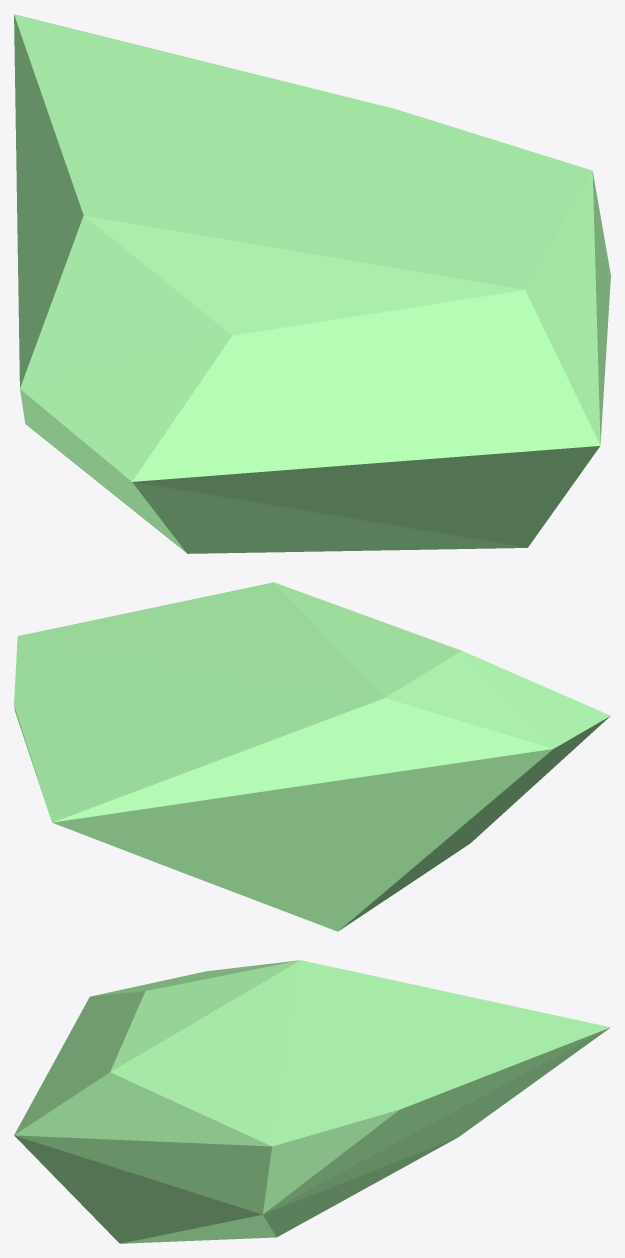
Rendered from UMIRobot_UMIRobot_link_3_convex_coll_29.dae.
3 renders of one model, top to bottom at view 1: azimuth 30°, elevation 25°; view 2: azimuth 150°, elevation 25°; view 3: azimuth 270°, elevation 25°, orthographic. The views are drawn at different scales.
Parts seen in each view (by area): view 1: node; view 2: node; view 3: node.
Boxes of the visible parts, <box> form: node: <box>14,14,610,553</box>; node: <box>14,582,610,931</box>; node: <box>14,960,610,1243</box>.
Bounding box in the file's own units: 0.0126 × 0.0057 × 0.0162.
